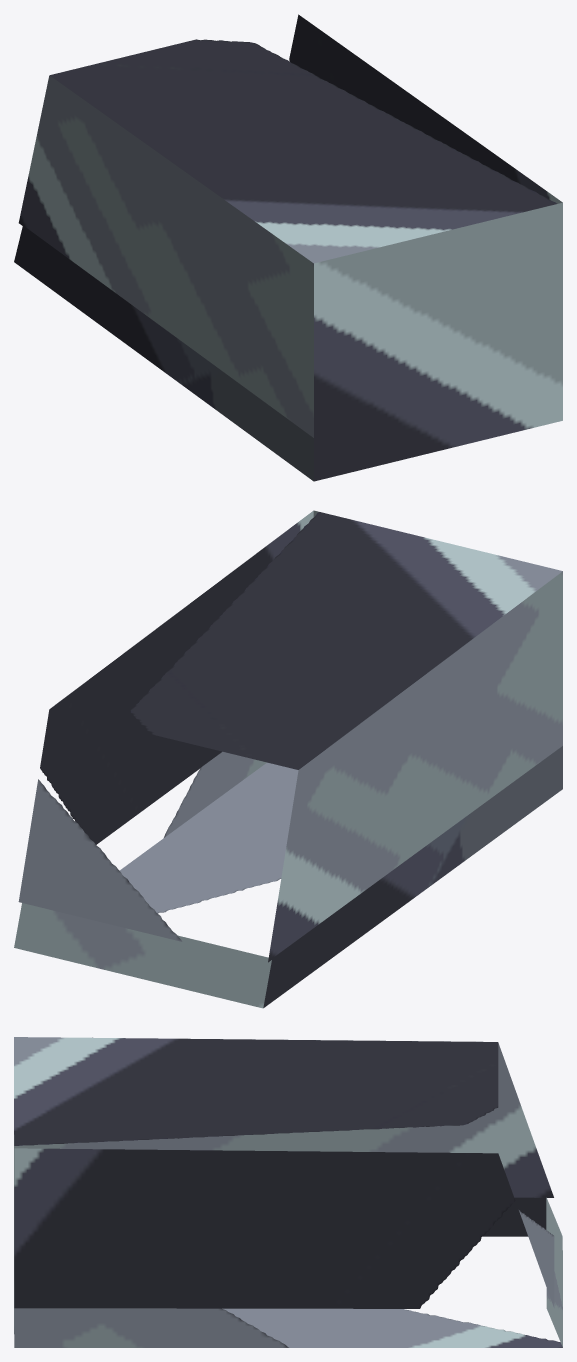
The model's file is ss8_carport_ad.obj.
3 views of the same model, one above another, from view 1: azimuth 30°, elevation 25°; view 2: azimuth 150°, elevation 25°; view 3: azimuth 270°, elevation 25° (orthographic). The views are drawn at different scales.
Parts seen in each view (by area): view 1: cube_selection_selection_selection_selection_selection_selection; view 2: cube_selection_selection_selection_selection_selection_selection; view 3: cube_selection_selection_selection_selection_selection_selection.
Part boxes in pixels (left/top/right/bottom): cube_selection_selection_selection_selection_selection_selection: left=14, top=14, right=562, bottom=481; cube_selection_selection_selection_selection_selection_selection: left=14, top=510, right=562, bottom=1008; cube_selection_selection_selection_selection_selection_selection: left=14, top=1037, right=562, bottom=1347.
Bounding box in the file's own units: 0.7502 × 0.6272 × 1.56.
